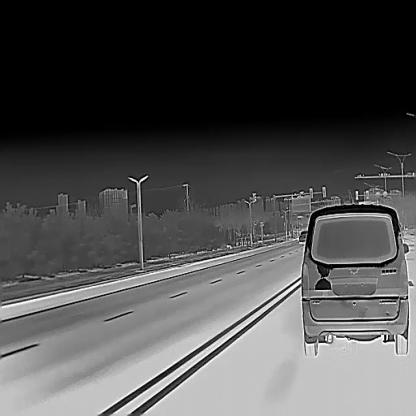car: (300, 202, 408, 356), (297, 229, 307, 242)
